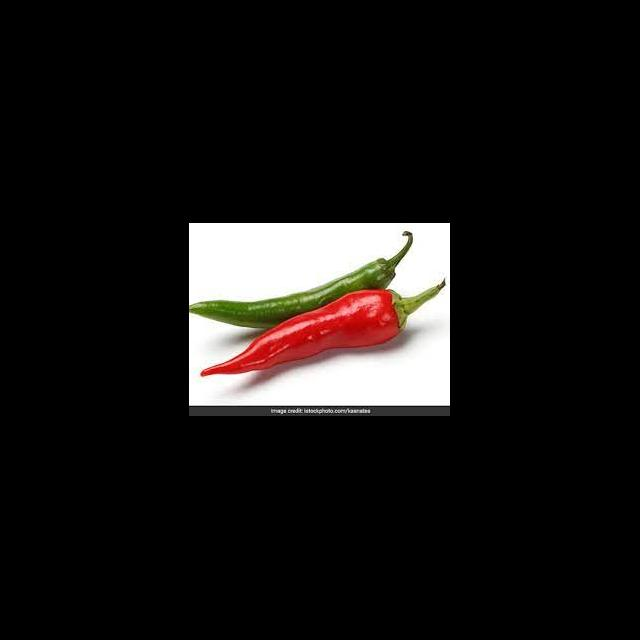chili_pepper: (200, 284, 446, 376), (190, 234, 412, 328)
